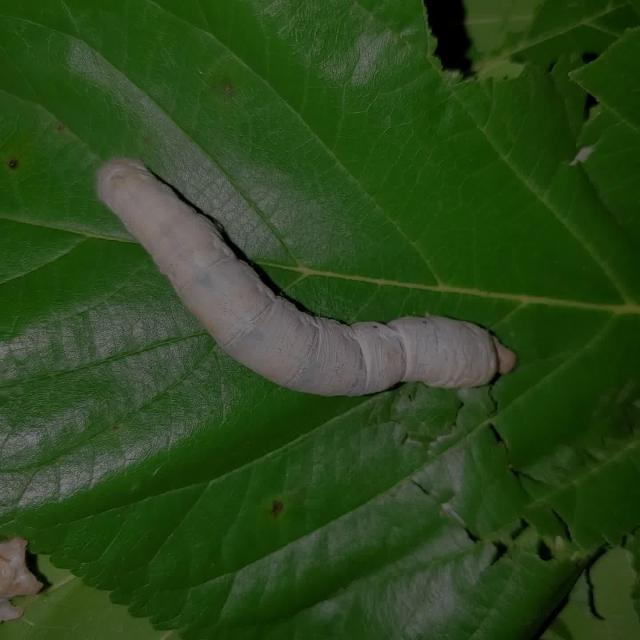Healthy: (63, 132, 535, 437)
